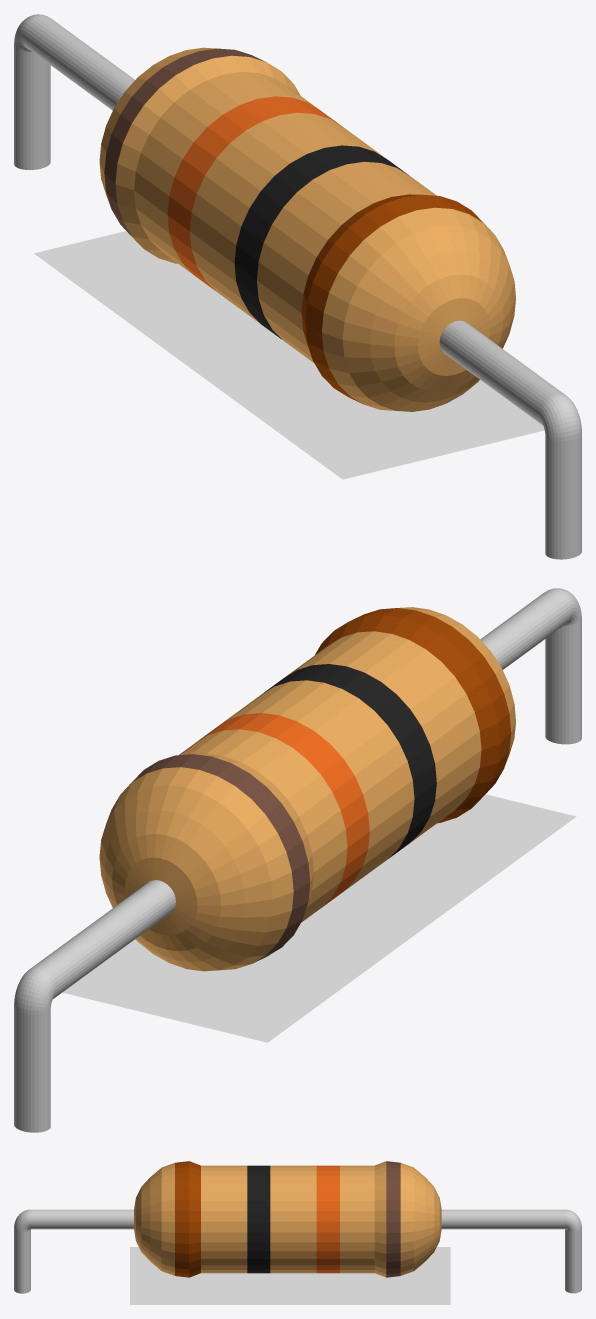
The picture shows the model from 3 angles, top to bottom: view 1: azimuth 30°, elevation 25°; view 2: azimuth 150°, elevation 25°; view 3: azimuth 270°, elevation 25°; orthographic projection. The views are drawn at different scales.
Visible parts, largest first — view 1: R_14, R_14_plane; view 2: R_14, R_14_plane; view 3: R_14, R_14_plane.
Boxes of the visible parts, bbox=[...] form: R_14: bbox=[14, 14, 581, 559]; R_14_plane: bbox=[34, 231, 544, 479]; R_14: bbox=[14, 588, 581, 1132]; R_14_plane: bbox=[62, 794, 576, 1042]; R_14: bbox=[14, 1161, 581, 1293]; R_14_plane: bbox=[130, 1247, 450, 1304].
Size of the model in its own units: 0.0161 by 0.0159 by 0.0664.
